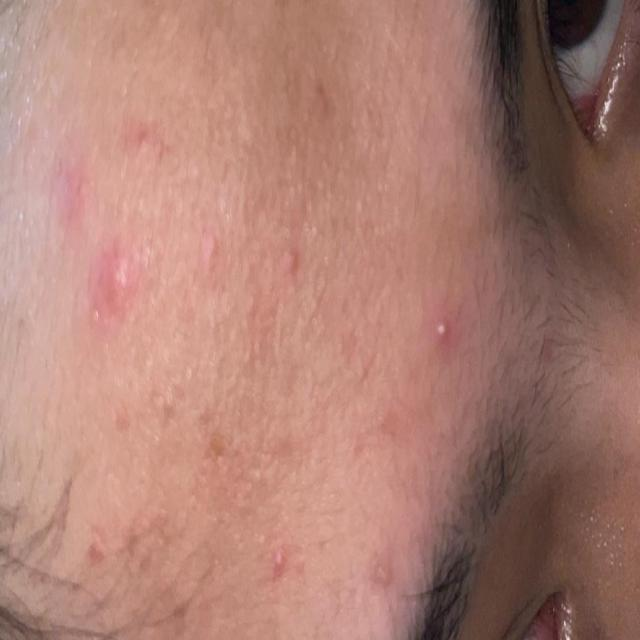papule: (42, 112, 170, 342)
pustule: (421, 317, 463, 353), (255, 549, 295, 580)
